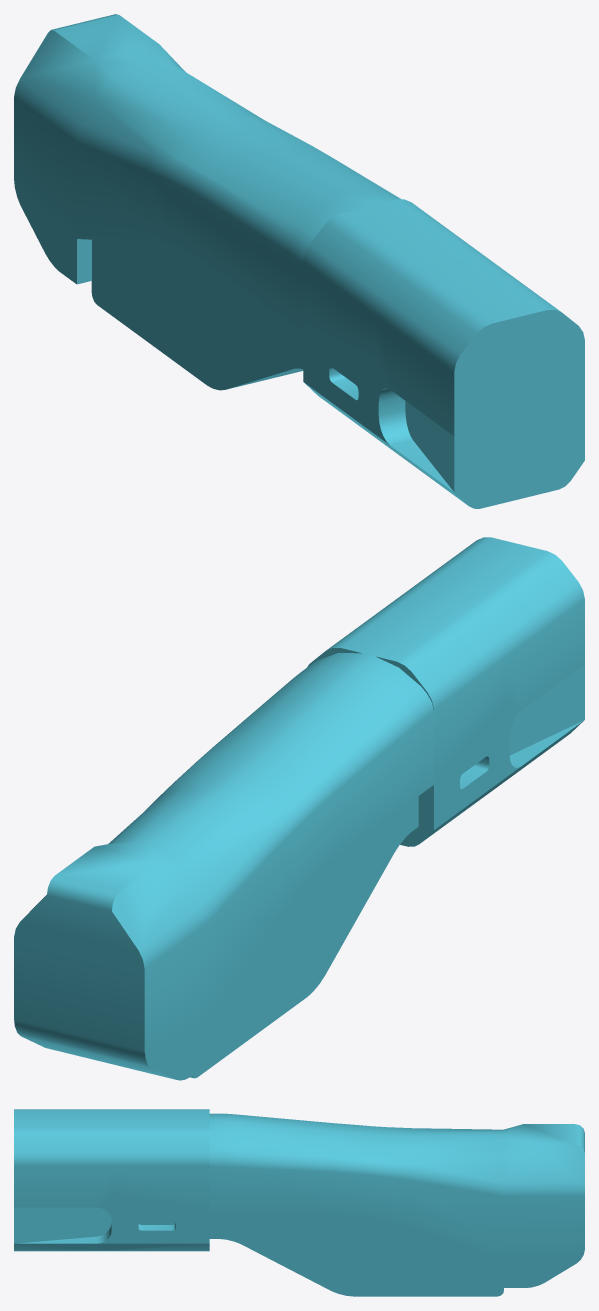
File: part_body_01.fbx
3 views of the same model, one above another, from view 1: azimuth 30°, elevation 25°; view 2: azimuth 150°, elevation 25°; view 3: azimuth 270°, elevation 25° (orthographic). The views are drawn at different scales.
Parts seen in each view (by area): view 1: part_body_01; view 2: part_body_01; view 3: part_body_01.
Part boxes in pixels (box(x1,y1,x2,y2)): part_body_01: box(14, 14, 584, 508); part_body_01: box(14, 537, 584, 1080); part_body_01: box(14, 1109, 584, 1296).
Size of the model in its own units: 6 by 10.9 by 35.
